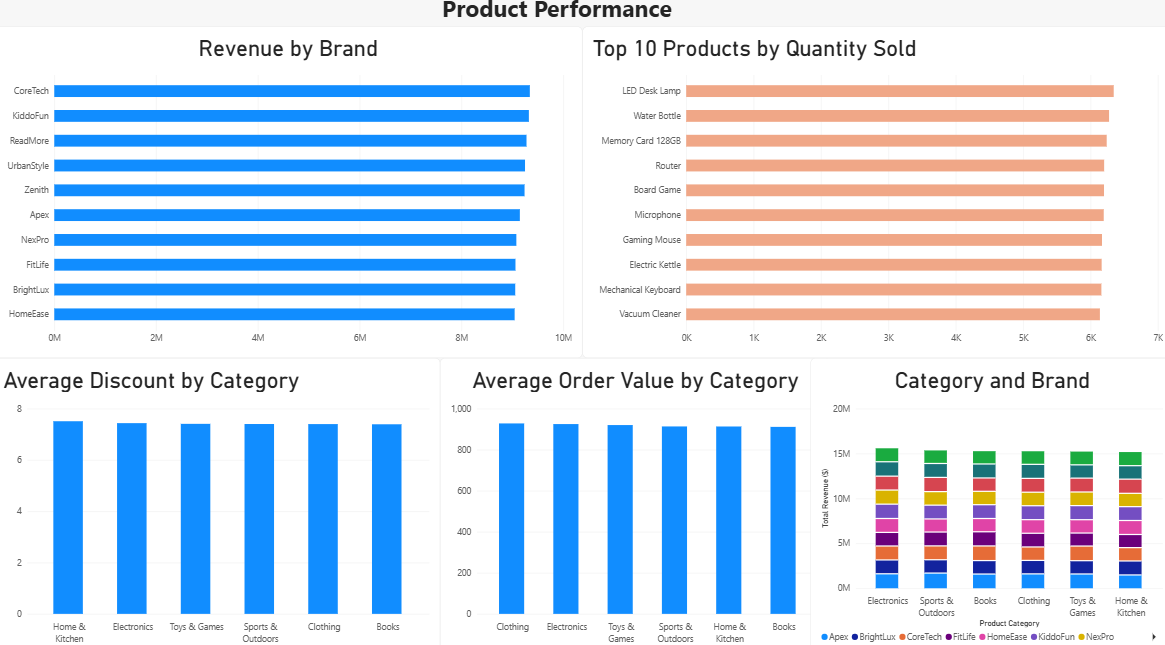

Layout of this report page (visuals, bound fields, positions):
{"tool":"powerbi","page":{"name":"Product","canvas":[1920,1080],"ordinal":1},"visuals":[{"type":"clusteredBarChart","title":"Revenue by Brand","fields":{"Category":["public amazon_sales.brand"],"Y":["Sum(public amazon_sales.total_amount)"]},"box":[0,56.1,958.8,539.2],"z":0},{"type":"clusteredBarChart","title":"\tTop 10 Products by Quantity Sold","fields":{"Category":["public amazon_sales.product_name"],"Y":["Sum(public amazon_sales.quantity)"]},"box":[958.8,56.1,961.3,539.2],"z":1000},{"type":"clusteredColumnChart","title":"\tAverage Discount by Category","fields":{"Category":["public amazon_sales.category"],"Y":["Avg(public amazon_sales.discount)"]},"box":[0,595.3,727.1,485.5],"z":2000},{"type":"clusteredColumnChart","title":"\tAverage Order Value by Category","fields":{"Category":["public amazon_sales.category"],"Y":["Avg(public amazon_sales.total_amount)"]},"box":[727.1,595.3,634.4,485.5],"z":3000},{"type":"textbox","box":[553.8,0,727.1,56.1],"z":4000},{"type":"columnChart","title":"Category and Brand","fields":{"Category":["public amazon_sales.category"],"Series":["public amazon_sales.brand"],"Y":["Sum(public amazon_sales.total_amount)"]},"box":[1329.7,595.3,590.4,485.5],"z":4001}]}

Visuals, with their boxes in screenshot pixels (x1, y1, x2, y2), scaled from the page's 1920x1080 canvas onto the 1165x645 screenshot:
"Revenue by Brand" clusteredBarChart: detection(0, 34, 582, 356)
"	Top 10 Products by Quantity Sold" clusteredBarChart: detection(582, 34, 1164, 356)
"	Average Discount by Category" clusteredColumnChart: detection(0, 356, 441, 644)
"	Average Order Value by Category" clusteredColumnChart: detection(441, 356, 826, 644)
textbox: detection(336, 0, 777, 34)
"Category and Brand" columnChart: detection(807, 356, 1164, 644)
